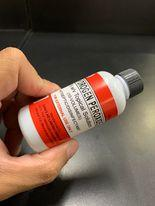-Bottle-: (18, 68, 144, 153)
